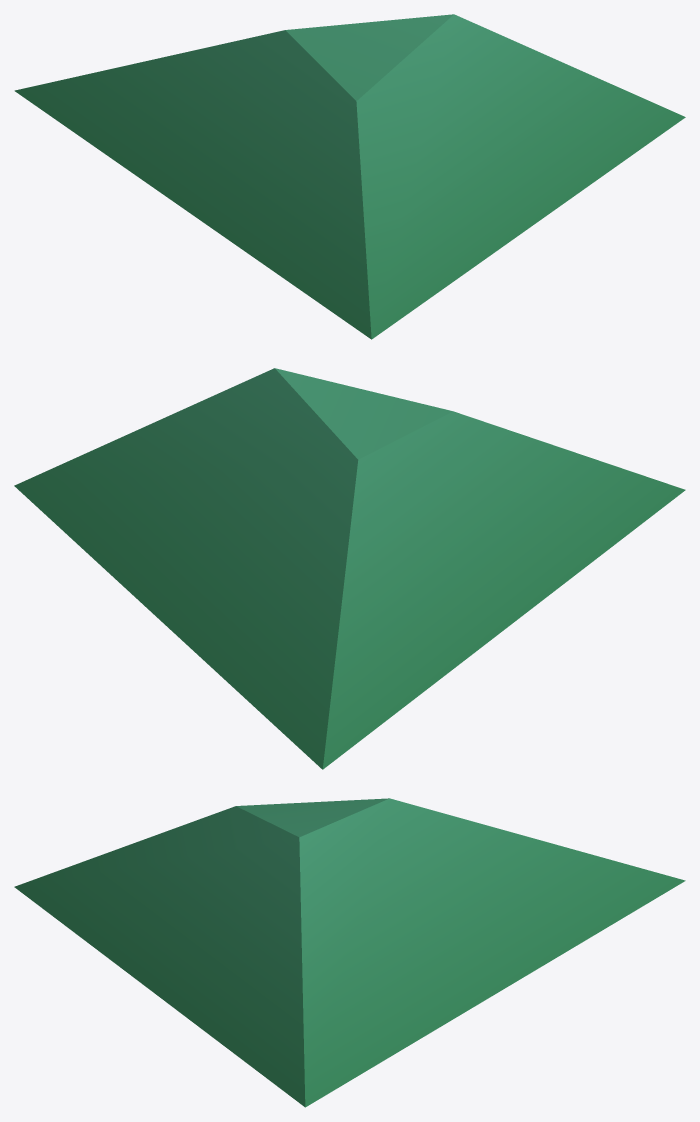
The model's file is MountainFar003.glb.
3 views of the same model, one above another, from view 1: azimuth 30°, elevation 25°; view 2: azimuth 150°, elevation 25°; view 3: azimuth 270°, elevation 25° (orthographic). The views are drawn at different scales.
Parts seen in each view (by area): view 1: MountainFar003; view 2: MountainFar003; view 3: MountainFar003.
Part boxes in pixels (x1=…): MountainFar003: x1=14, y1=14, x2=685, y2=339; MountainFar003: x1=14, y1=368, x2=685, y2=769; MountainFar003: x1=14, y1=798, x2=685, y2=1107.
Bounding box in the file's own units: 947 × 308 × 1186.
1 material, 1 textured.
